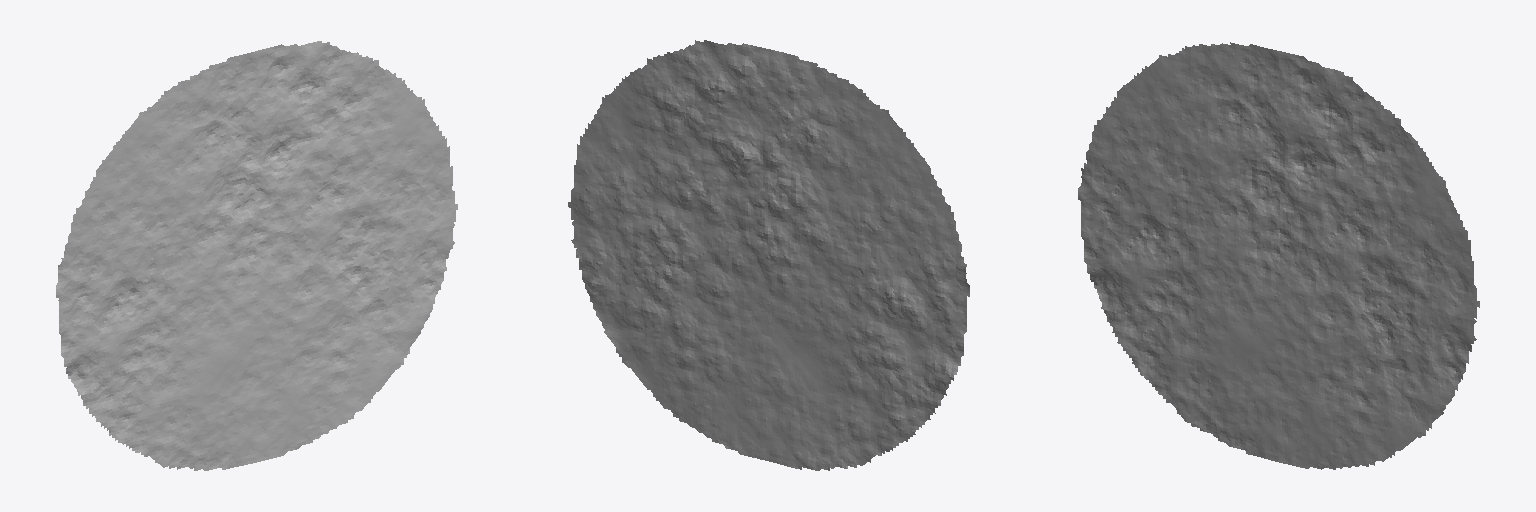
The model's file is water.obj.
3 renders of one model, left to right at view 1: azimuth 30°, elevation 25°; view 2: azimuth 150°, elevation 25°; view 3: azimuth 330°, elevation 25°, orthographic.
Visible parts, largest first — view 1: groundplanedisk2.001; view 2: groundplanedisk2.001; view 3: groundplanedisk2.001.
Part boxes in pixels (x1,y1,x2,y2): groundplanedisk2.001: (56, 41, 457, 470); groundplanedisk2.001: (568, 40, 969, 470); groundplanedisk2.001: (1078, 42, 1479, 469).
Size of the model in its own units: 5805 by 5683 by 89.44.